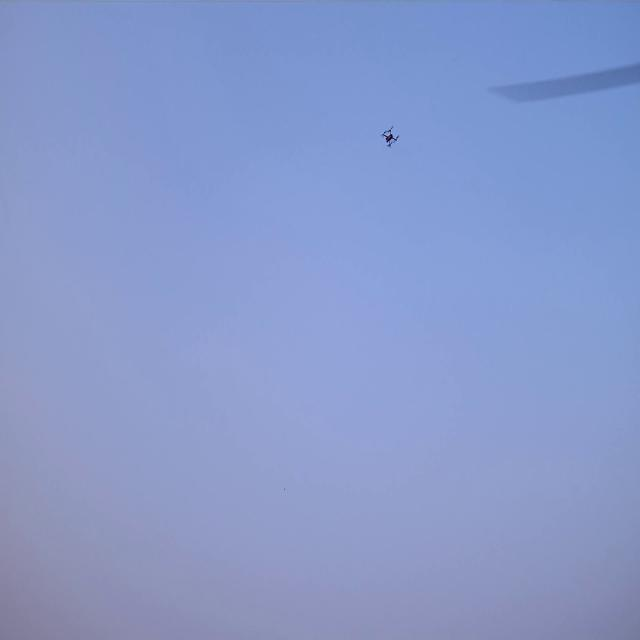UAV: (383, 130, 397, 148)
